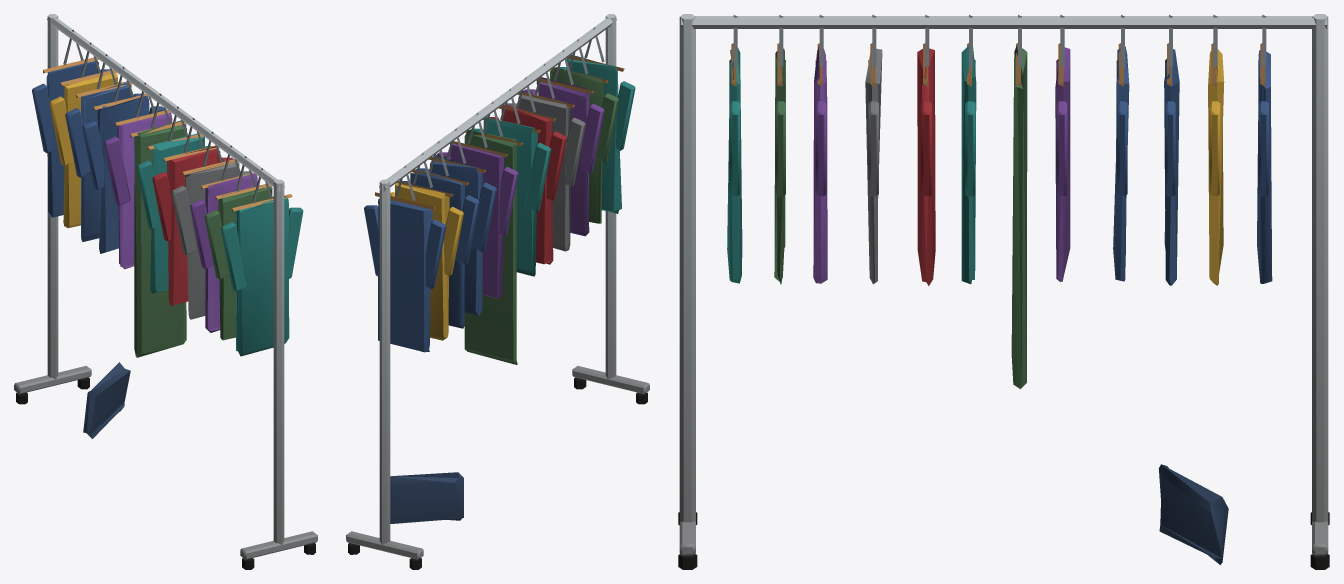
File: 93_portant_vetements.fbx
3 renders of one model, left to right at view 1: azimuth 30°, elevation 25°; view 2: azimuth 150°, elevation 25°; view 3: azimuth 270°, elevation 25°, orthographic. The views are drawn at different scales.
Visible parts, largest first — view 1: Vetements, Portant; view 2: Vetements, Portant; view 3: Vetements, Portant.
Part boxes in pixels (left/top/right/bottom): Vetements: left=32, top=30, right=303, bottom=438; Portant: left=14, top=14, right=317, bottom=569; Vetements: left=364, top=27, right=635, bottom=523; Portant: left=346, top=14, right=649, bottom=569; Vetements: left=727, top=14, right=1272, bottom=564; Portant: left=678, top=14, right=1329, bottom=569.
Bounding box in the file's own units: 0.28 × 1.26 × 1.4.
1 material, 1 textured.
